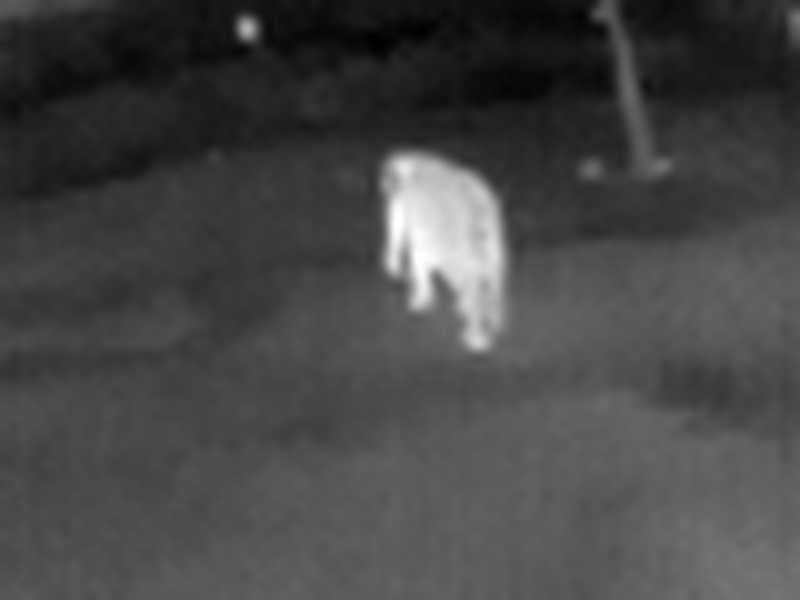elephant: (342, 131, 539, 361)
